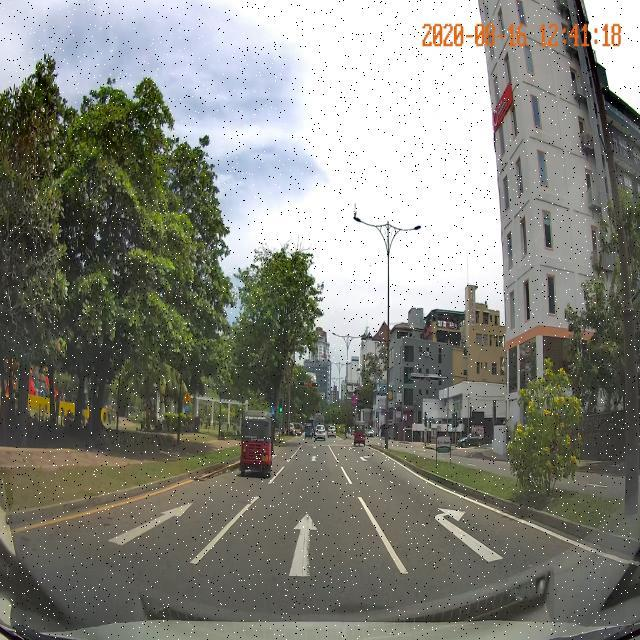forward: (169, 509, 411, 577)
